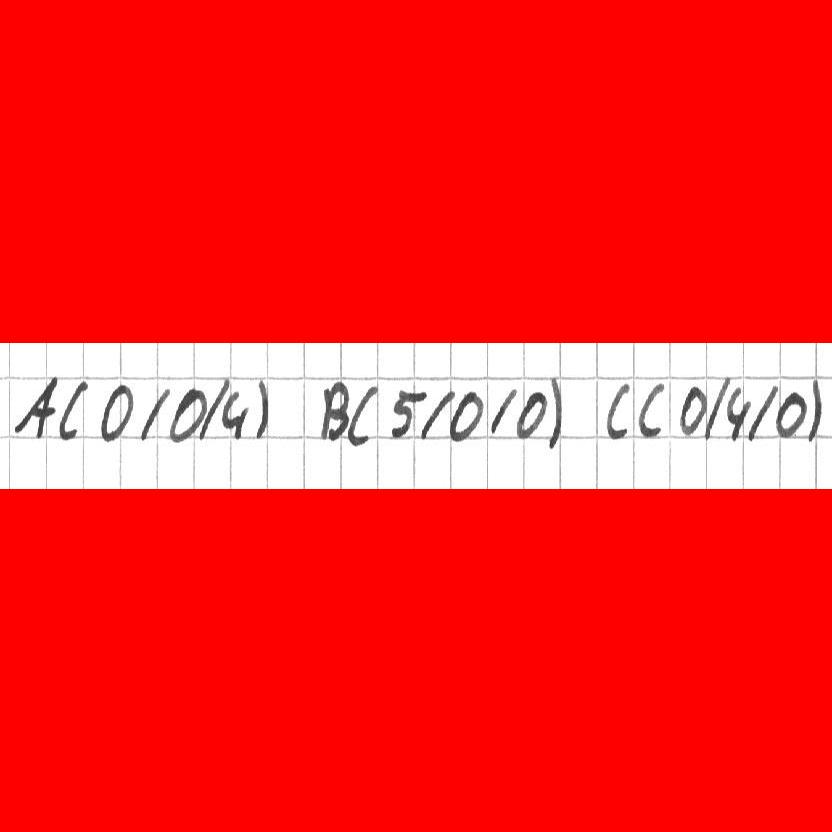Char: (181, 378, 223, 442), (12, 378, 56, 438), (96, 382, 134, 441), (56, 378, 91, 439), (385, 383, 422, 438), (320, 378, 350, 444), (447, 385, 483, 440), (137, 385, 171, 442), (419, 387, 454, 441), (747, 383, 778, 443), (603, 381, 633, 441), (636, 382, 668, 437), (703, 376, 730, 441), (517, 386, 547, 442), (774, 387, 805, 441), (679, 383, 706, 439), (487, 387, 516, 436), (546, 375, 564, 451), (724, 387, 749, 441), (350, 389, 374, 445), (253, 375, 269, 441), (807, 376, 823, 442), (223, 400, 247, 438)
